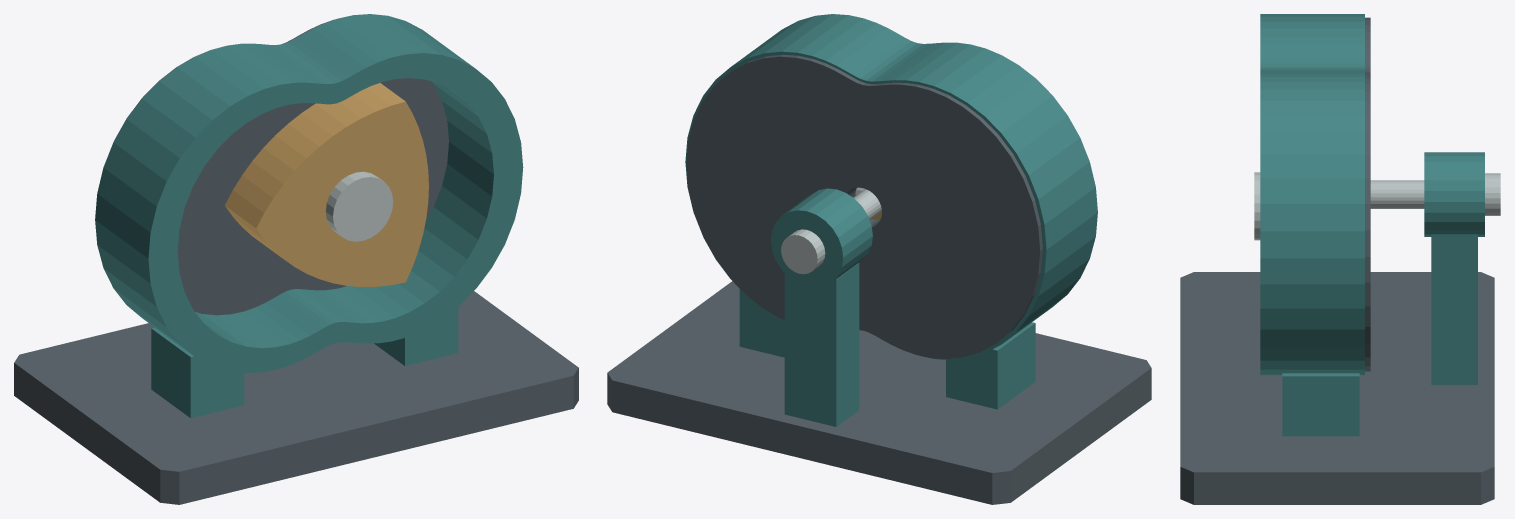
The picture shows the model from 3 angles, left to right: view 1: azimuth 30°, elevation 25°; view 2: azimuth 150°, elevation 25°; view 3: azimuth 270°, elevation 25°; orthographic projection. The views are drawn at different scales.
Parts seen in each view (by area): view 1: WholeOpenFrontTwoLobedCasing, WholeGroundedDisplayBed, WholeCurvedTriangularRotor, WholeLobedAnnularBackplate, WholeCasingFoot0, WholeOffsetRotorBoss, WholeCasingFoot1; view 2: WholeLobedAnnularBackplate, WholeGroundedDisplayBed, WholeOpenFrontTwoLobedCasing, WholeRearBearingPedestal, WholeBoredRearBearing, WholeCasingFoot0, WholeCasingFoot1, WholeRearRetainingCap; view 3: WholeGroundedDisplayBed, WholeOpenFrontTwoLobedCasing, WholeRearBearingPedestal, WholeBoredRearBearing, WholeCasingFoot1, WholeLobedAnnularBackplate, WholeRearCommonShaft, WholeRearRetainingCap, WholeOffsetRotorBoss.
Boxes of the visible parts, x1,y1,x2,y2 form: WholeOpenFrontTwoLobedCasing: (95, 14, 523, 373); WholeGroundedDisplayBed: (14, 291, 578, 504); WholeCurvedTriangularRotor: (225, 83, 428, 286); WholeLobedAnnularBackplate: (114, 19, 448, 315); WholeCasingFoot0: (151, 327, 244, 418); WholeOffsetRotorBoss: (325, 171, 393, 241); WholeCasingFoot1: (374, 307, 458, 365); WholeLobedAnnularBackplate: (686, 54, 1042, 358); WholeGroundedDisplayBed: (607, 281, 1151, 504); WholeOpenFrontTwoLobedCasing: (685, 14, 1097, 359); WholeRearBearingPedestal: (784, 263, 859, 426); WholeBoredRearBearing: (771, 188, 872, 287); WholeCasingFoot0: (946, 322, 1035, 409); WholeCasingFoot1: (739, 289, 784, 357); WholeRearRetainingCap: (781, 229, 825, 274); WholeGroundedDisplayBed: (1180, 272, 1494, 504); WholeOpenFrontTwoLobedCasing: (1260, 14, 1364, 375); WholeRearBearingPedestal: (1431, 234, 1477, 384); WholeBoredRearBearing: (1424, 152, 1484, 236); WholeCasingFoot1: (1282, 373, 1359, 436); WholeLobedAnnularBackplate: (1365, 17, 1370, 371); WholeRearCommonShaft: (1370, 180, 1424, 208); WholeRearRetainingCap: (1485, 173, 1500, 215); WholeOffsetRotorBoss: (1254, 172, 1260, 240).
Size of the model in its own units: 0.86 by 0.6988 by 0.581.
